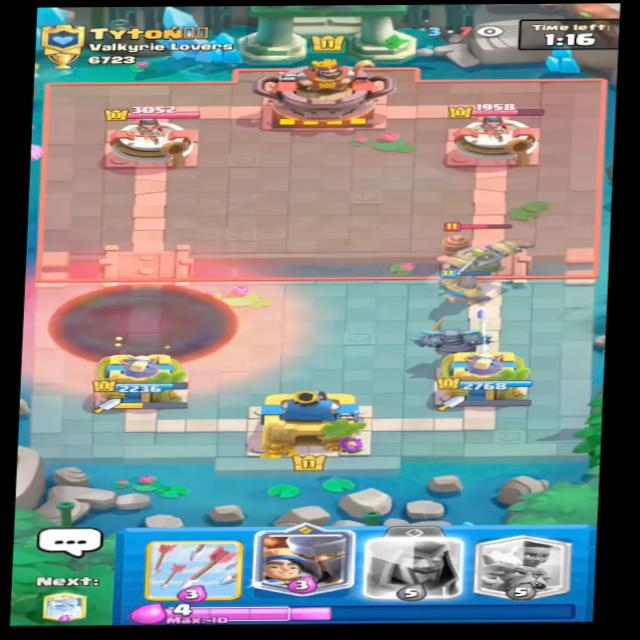goblin-machine: (419, 219, 537, 282)
